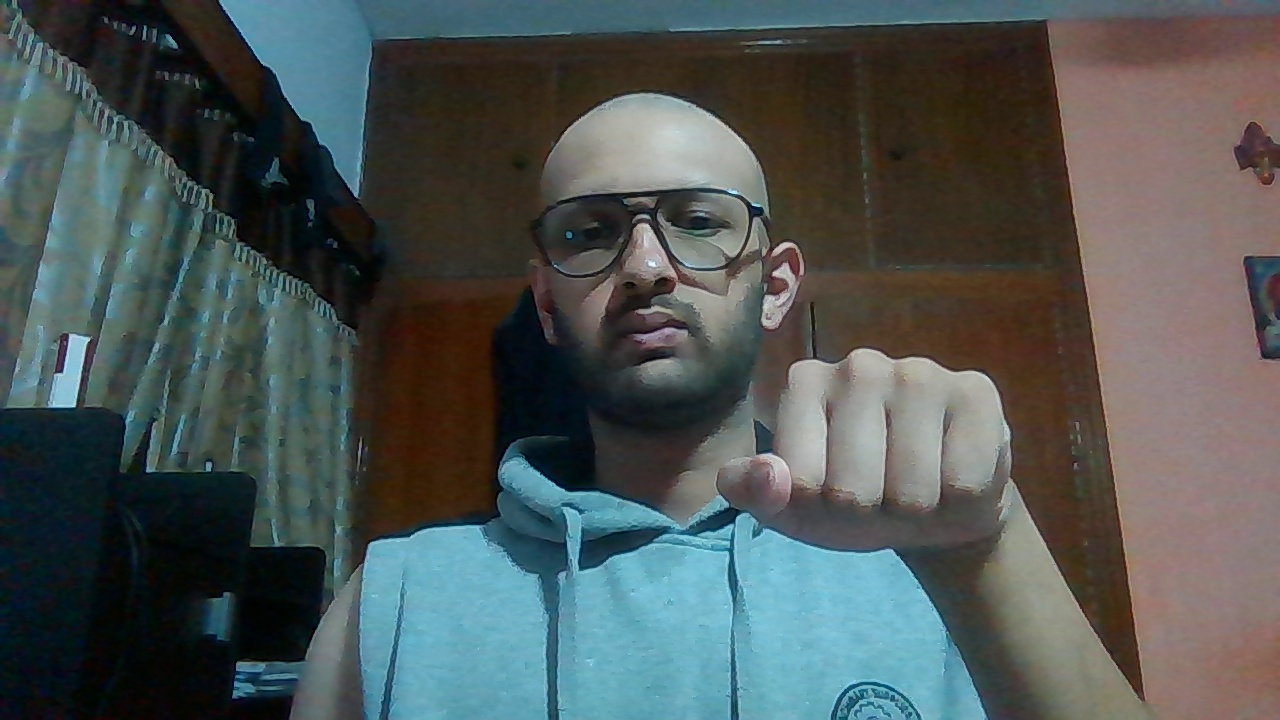Yes: (710, 343, 1037, 546)
